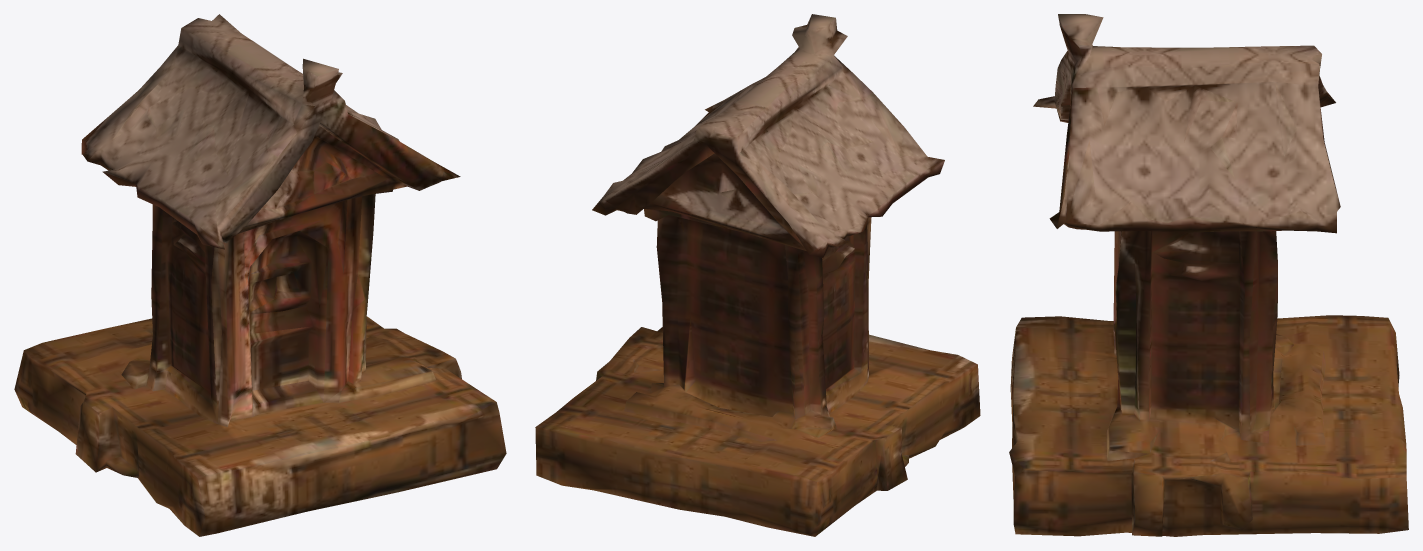
Rendered from toad-prop3d-spirit-house.glb.
The picture shows the model from 3 angles, left to right: view 1: azimuth 30°, elevation 25°; view 2: azimuth 150°, elevation 25°; view 3: azimuth 270°, elevation 25°; orthographic projection. The views are drawn at different scales.
Parts seen in each view (by area): view 1: world; view 2: world; view 3: world.
Part boxes in pixels (x1,y1,x2,y2): world: [14, 14, 506, 536]; world: [535, 14, 980, 536]; world: [1009, 14, 1408, 536].
Bounding box in the file's own units: 0.1 × 0.12 × 0.0987.
Materials: 1 (1 with a texture image).
